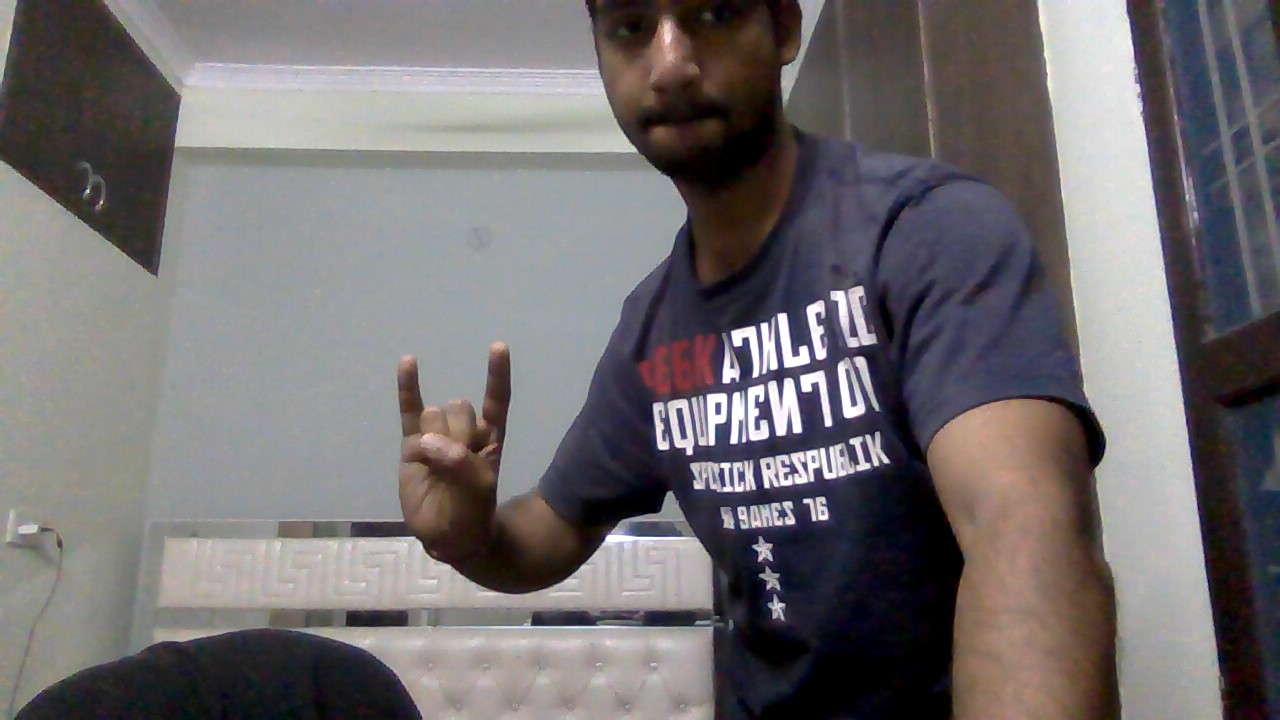Select All: (378, 330, 533, 575)
